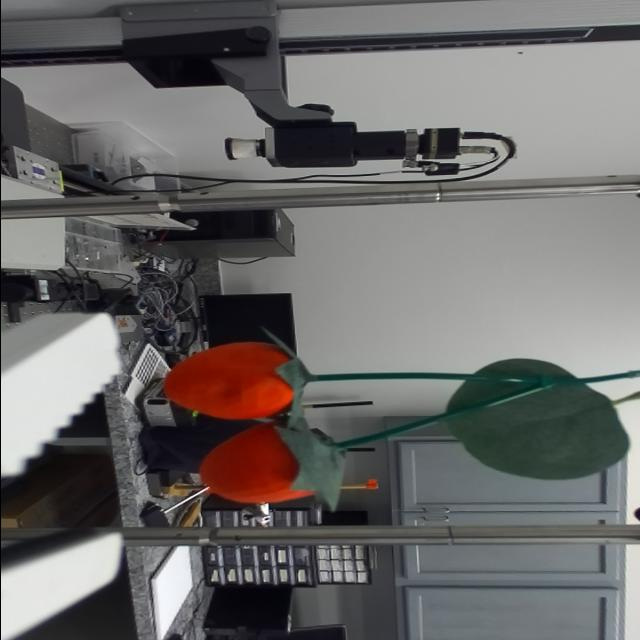Fruit-Stem-Detection: (335, 386, 544, 448), (309, 372, 536, 383)
